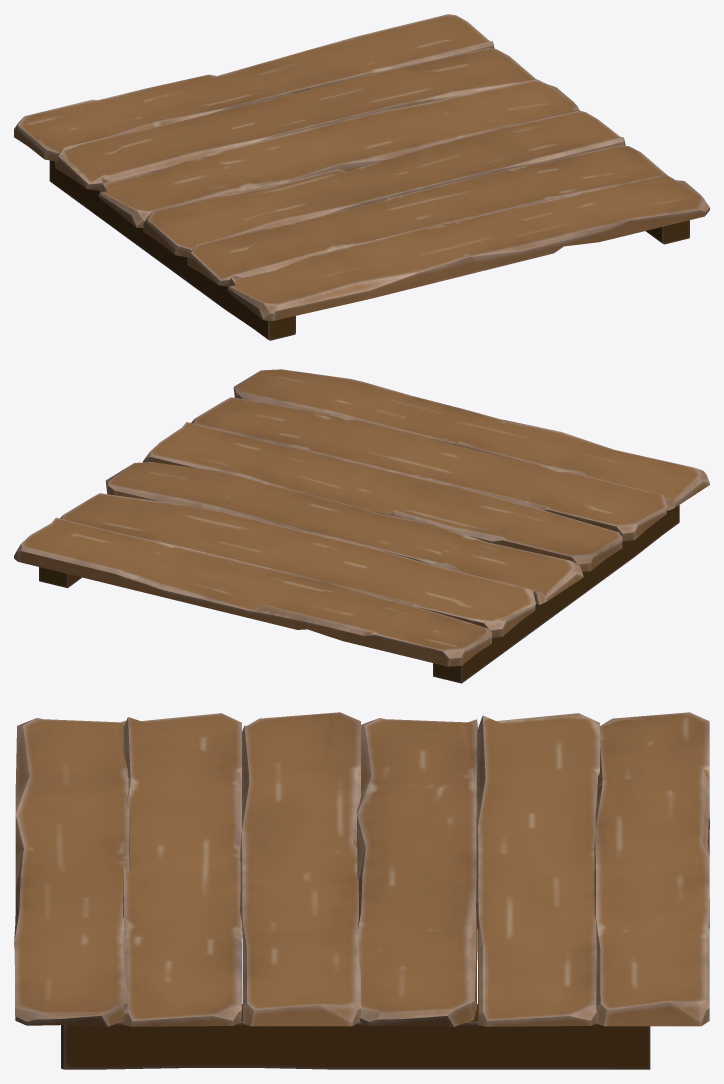
Rendered from WoodCieling.fbx.
The picture shows the model from 3 angles, top to bottom: view 1: azimuth 30°, elevation 25°; view 2: azimuth 150°, elevation 25°; view 3: azimuth 270°, elevation 25°; orthographic projection. The views are drawn at different scales.
Parts seen in each view (by area): view 1: woodCieling.001; view 2: woodCieling.001; view 3: woodCieling.001.
Part boxes in pixels (x1,y1,x2,y2): woodCieling.001: [14, 14, 709, 340]; woodCieling.001: [14, 369, 709, 683]; woodCieling.001: [14, 712, 709, 1069].
Bounding box in the file's own units: 99.57 × 11.19 × 98.74.
